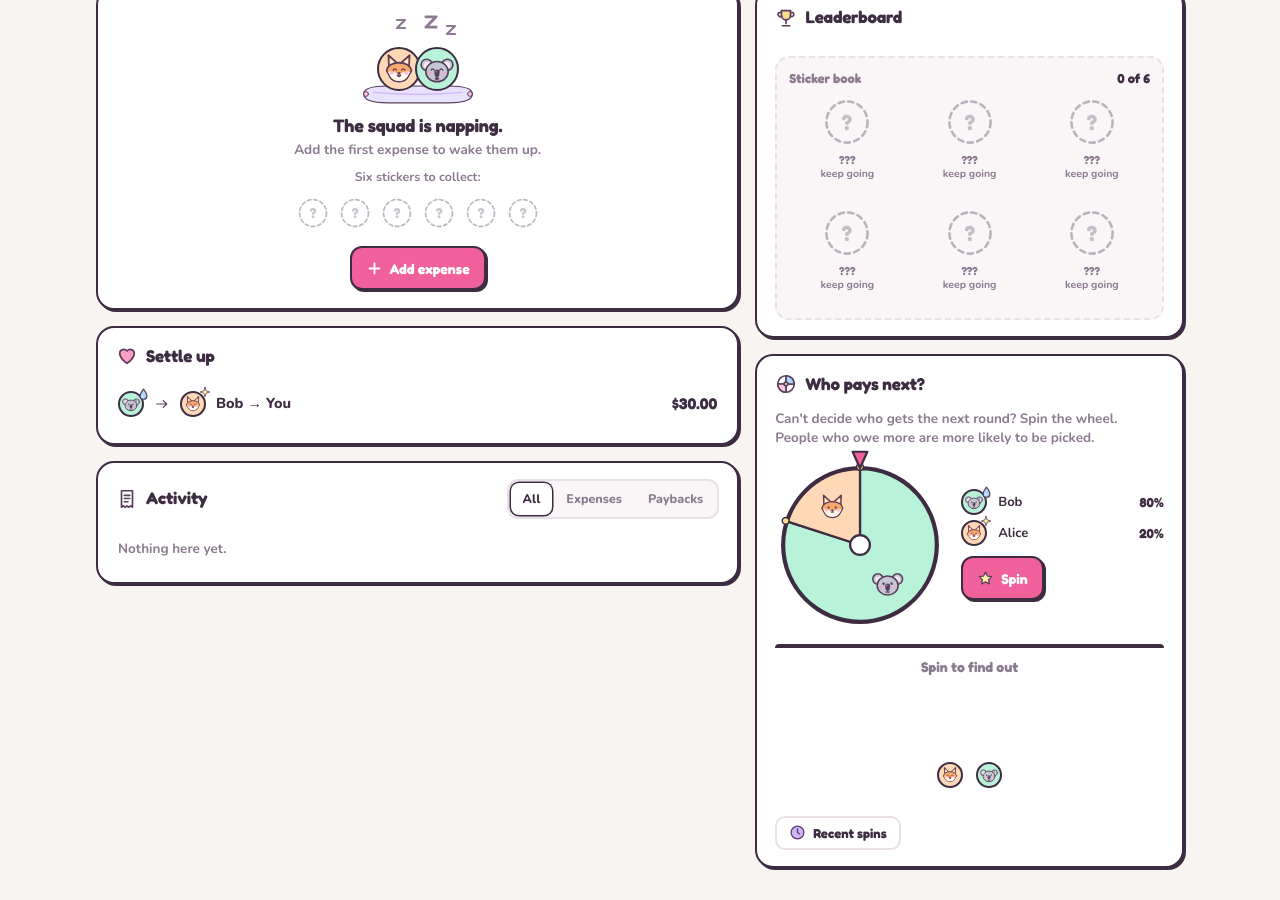
Test case: Group home › inline wheel › shows everyone on the wheel with their odds, spins in place and announces the winner when it stops
This screenshot has width=1280, height=900.
Later steps or results of the test are not shown.
(page scrolled)
Expected: the text "80%" is shown, [1140,493,1164,512]
Expected: the list item "Bob" is shown, [998,493,1022,511]
Click the button "Spin" at (1002, 578), box [961,556,1044,600]
Wait 3600 ms
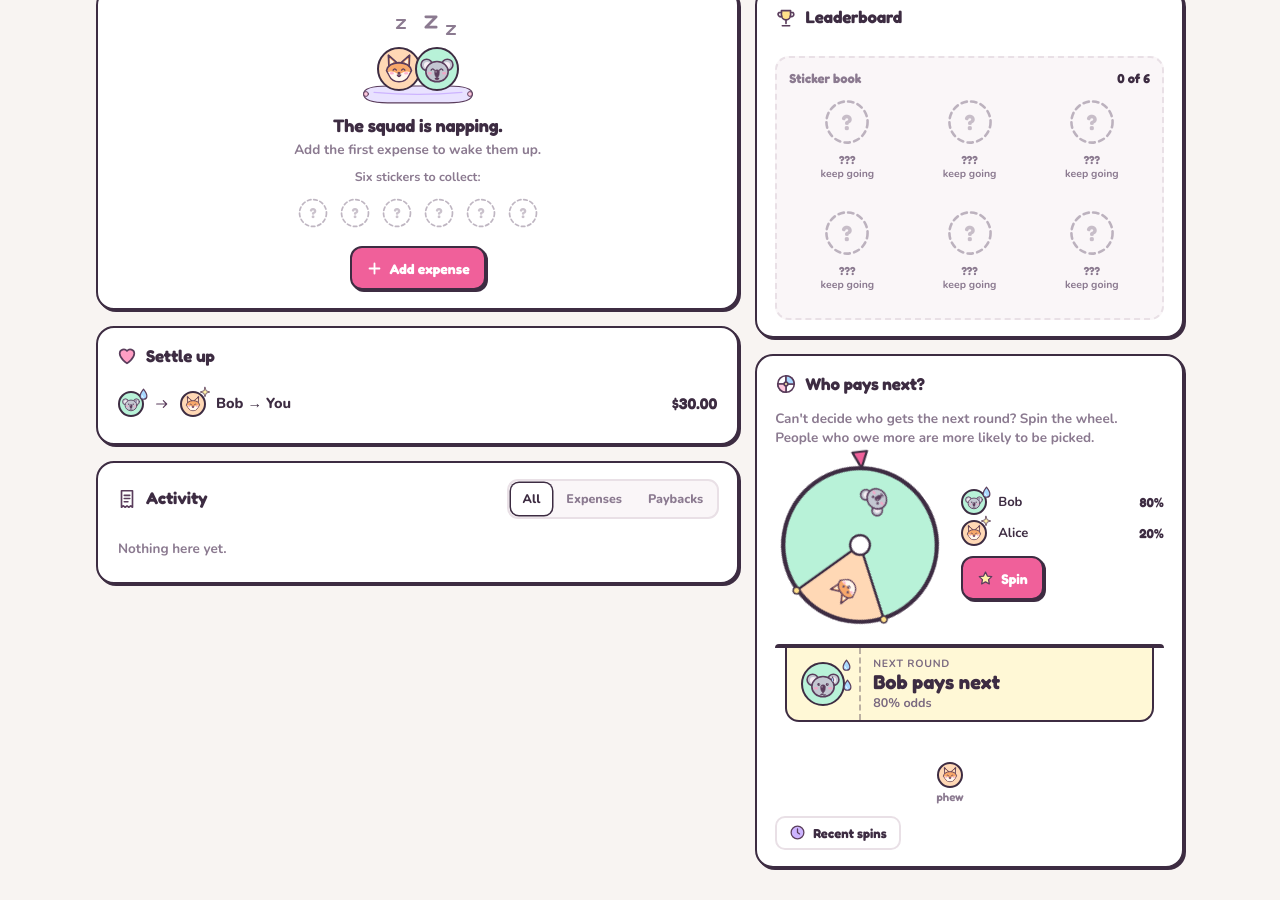
Now the text "Bob pays next" is shown, box [873,671,1000,694]
